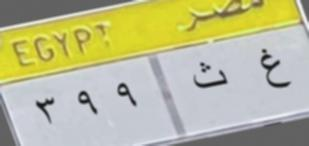3: (31, 93, 60, 131)
9: (113, 78, 140, 120), (75, 88, 102, 125)
ghayn: (254, 44, 291, 99)
thaa: (189, 60, 229, 98)
